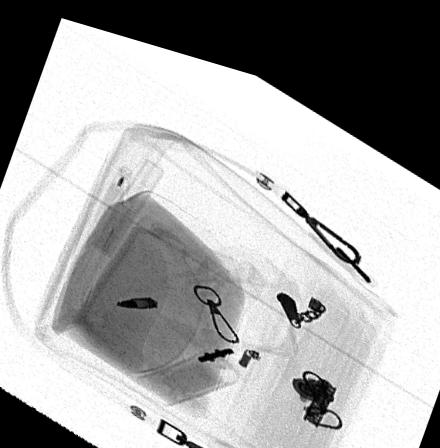Bullet: (115, 287, 158, 302)
